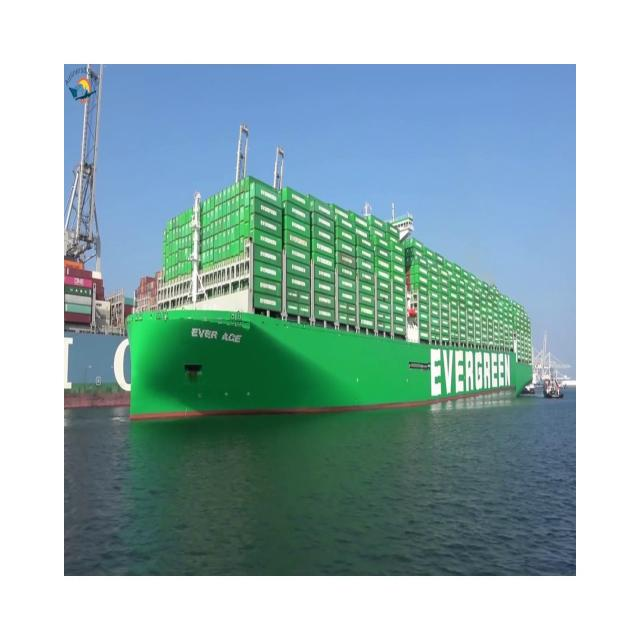OCR: (422, 340, 516, 408), (180, 316, 250, 346)
